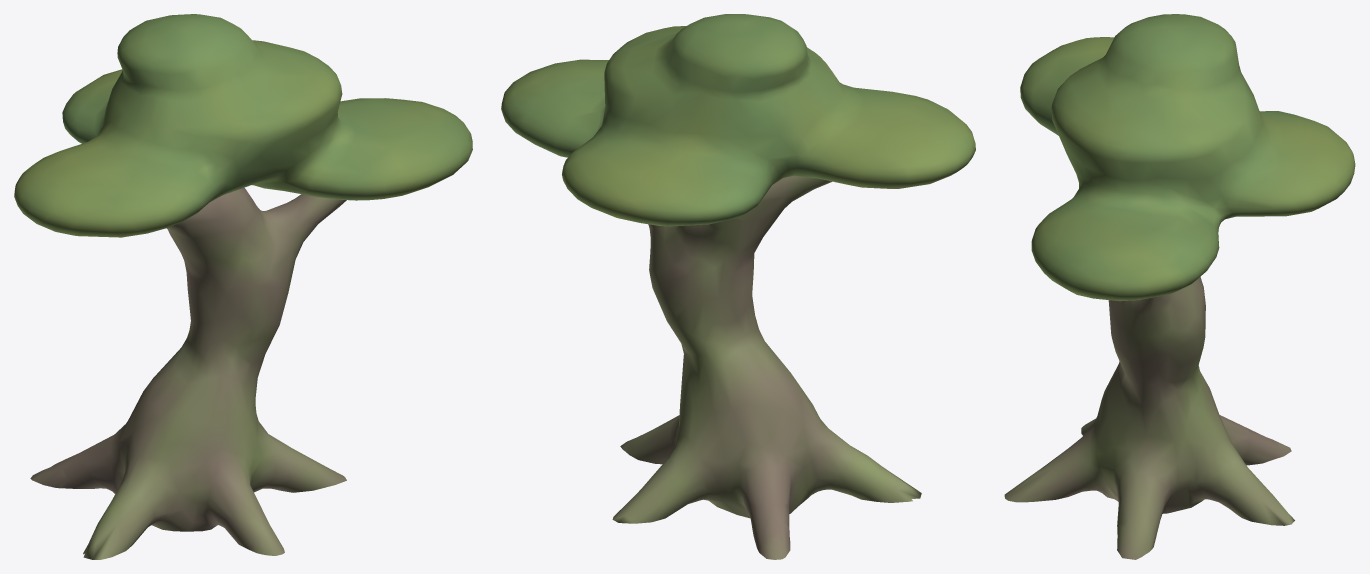
File: old-tree0.glb
3 views of the same model, side by side, from view 1: azimuth 30°, elevation 25°; view 2: azimuth 150°, elevation 25°; view 3: azimuth 270°, elevation 25° (orthographic).
Parts seen in each view (by area): view 1: old_canopy, body; view 2: old_canopy, body; view 3: old_canopy, body.
Part boxes in pixels (x1,y1,x2,y2): old_canopy: (14,14,472,237); body: (30,187,346,559); old_canopy: (501,14,975,226); body: (612,175,921,559); old_canopy: (1020,14,1355,301); body: (1004,277,1294,559).
Size of the model in its own units: 4.67 by 4.75 by 3.21.
